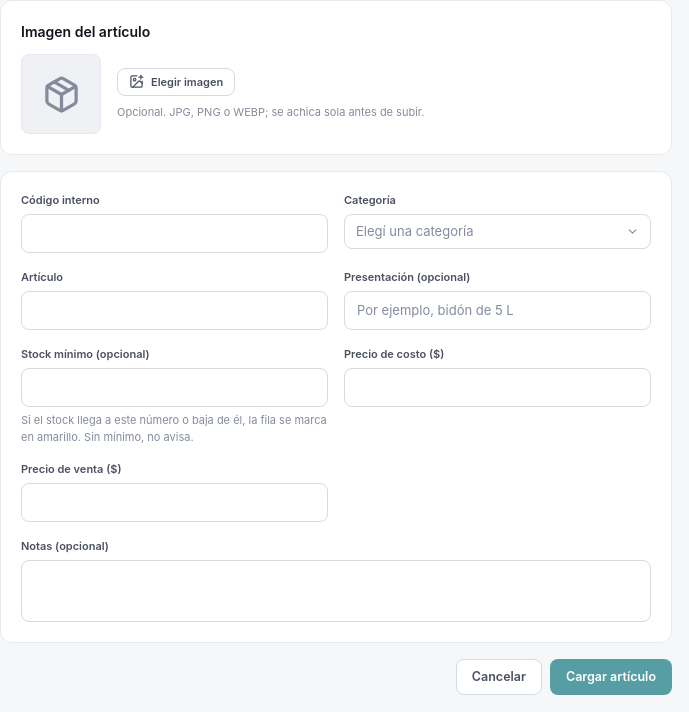
Test: SupplyFormScreen: nuevo artículo › solo ofrece categorías activas
What coordinates should you click on to do the following:
click the dropdown labelled "categoría"
I would click on:
 (415, 230)
Its box is [344,214,651,249].
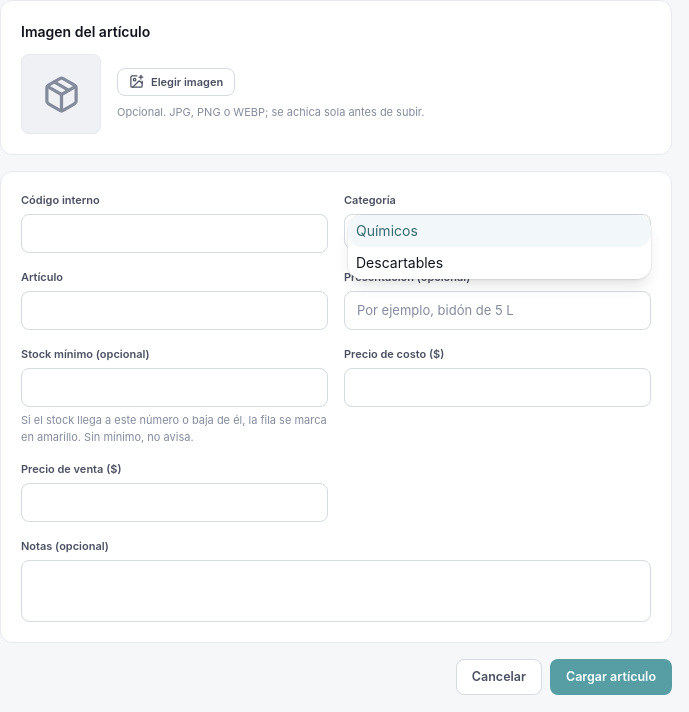
Now the option "Químicos" is shown, box [348,215,651,247]
